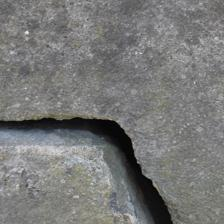Crack: (28, 32, 112, 142), (108, 26, 160, 121)
